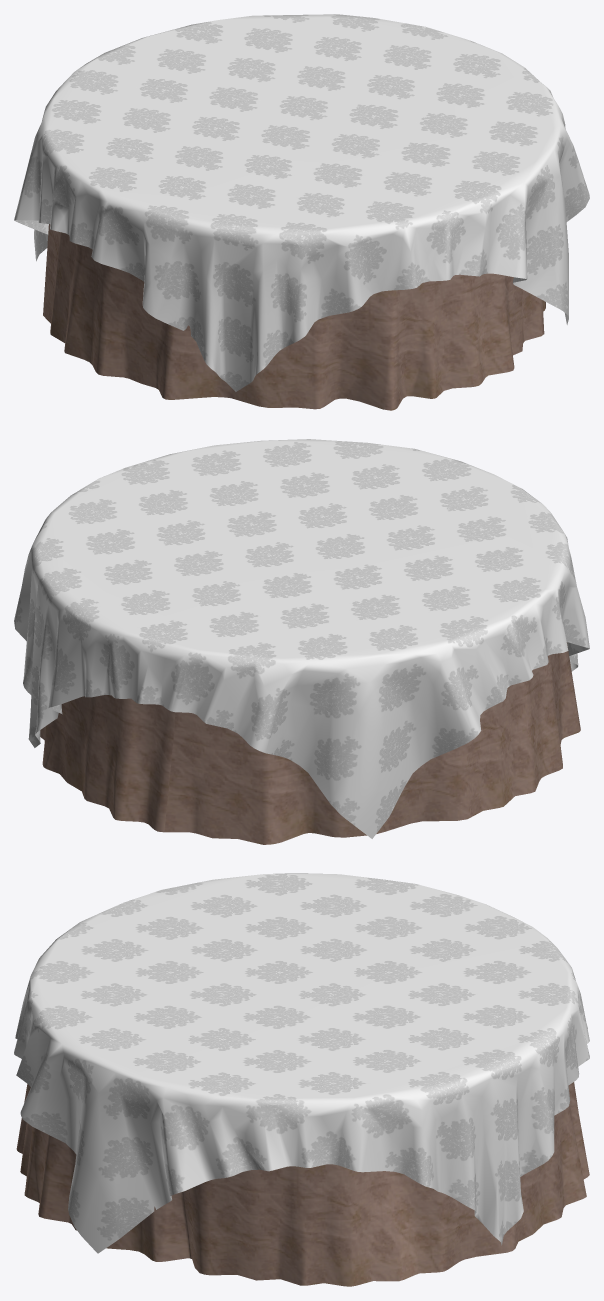
File: Table2.FBX
3 views of the same model, one above another, from view 1: azimuth 30°, elevation 25°; view 2: azimuth 150°, elevation 25°; view 3: azimuth 270°, elevation 25° (orthographic). The views are drawn at different scales.
Parts seen in each view (by area): view 1: Table2; view 2: Table2; view 3: Table2.
Boxes of the visible parts, box(x1,y1,x2,y2) form: Table2: box(14, 14, 589, 410); Table2: box(14, 439, 589, 844); Table2: box(14, 873, 589, 1286).
Size of the model in its own units: 19.69 by 7 by 19.53.
Materials: 1 (1 with a texture image).
